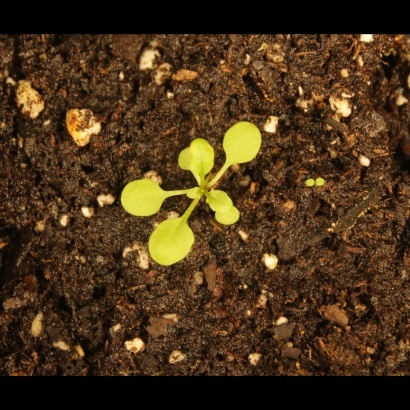leaf: (147, 211, 197, 271), (220, 117, 270, 168), (116, 178, 171, 219), (176, 136, 218, 176), (215, 202, 248, 239), (199, 184, 233, 215)
